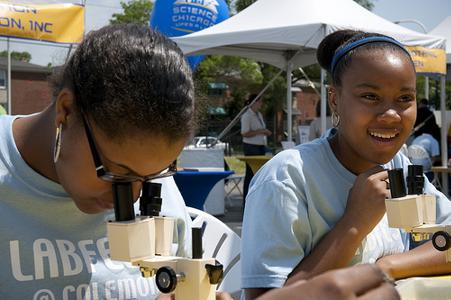person: (2, 23, 233, 300)
